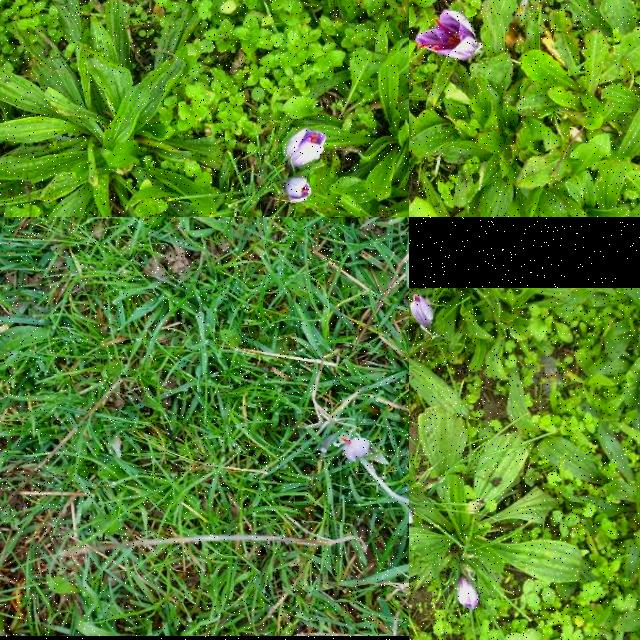flower: (414, 10, 480, 62), (285, 128, 325, 172), (458, 578, 479, 612), (412, 294, 434, 326), (342, 438, 371, 462), (286, 176, 310, 204), (409, 506, 415, 531)
